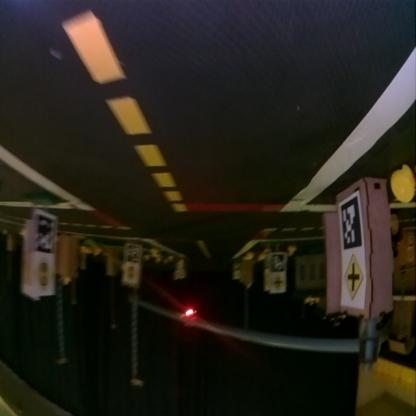Duckie: (390, 168, 414, 203), (288, 248, 296, 256)
Intersection sign: (342, 256, 364, 304), (271, 275, 285, 294)
QR code: (340, 198, 362, 248), (34, 215, 56, 251), (270, 256, 284, 274), (126, 244, 139, 262)
Signal sign: (34, 256, 53, 296), (124, 265, 138, 284)
Traffic light: (184, 308, 195, 326)
